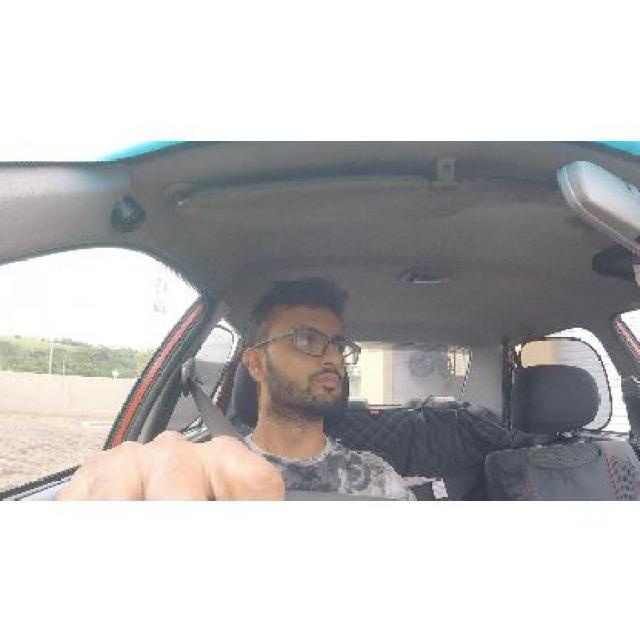LeftRight: (234, 276, 363, 426)
